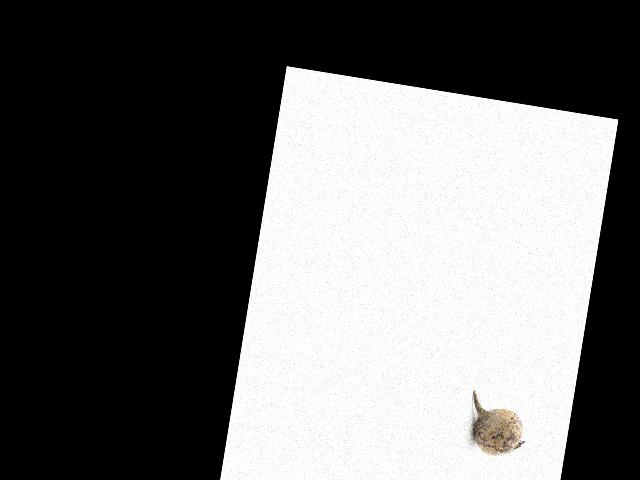beet: (463, 390, 531, 460)
